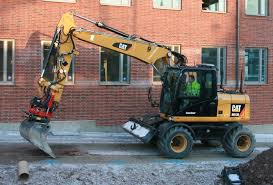excavator: (19, 11, 257, 162)
